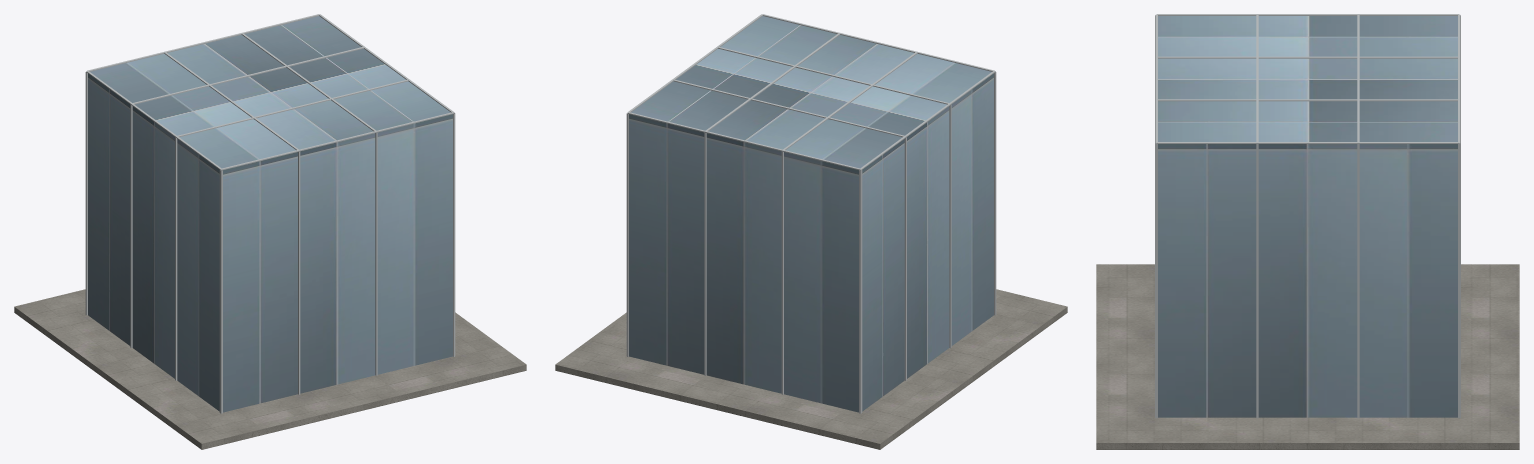
File: apple_cube.glb
3 renders of one model, left to right at view 1: azimuth 30°, elevation 25°; view 2: azimuth 150°, elevation 25°; view 3: azimuth 270°, elevation 25°, orthographic. The views are drawn at different scales.
Visible parts, largest first — view 1: apple_cube; view 2: apple_cube; view 3: apple_cube.
Part boxes in pixels (x1,y1,x2,y2): apple_cube: (14,14,526,449); apple_cube: (555,14,1067,449); apple_cube: (1096,14,1519,449).
Bounding box in the file's own units: 14 × 10.29 × 14.
Materials: 3 (3 with a texture image).
